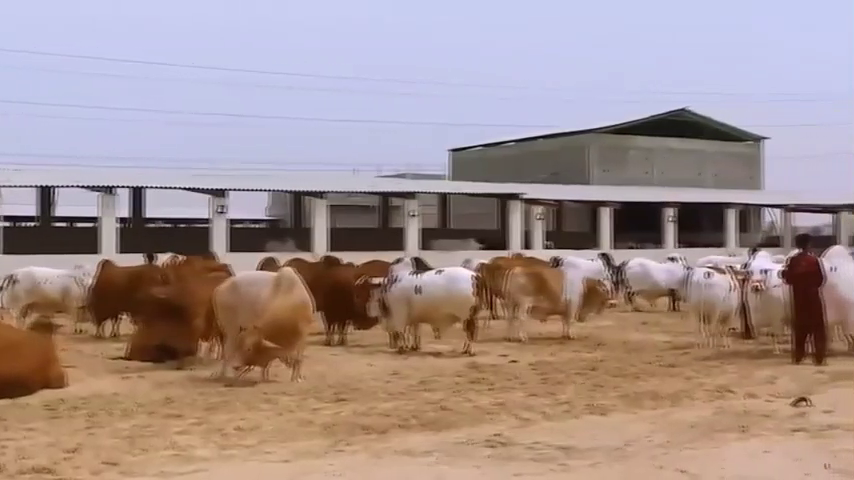bo: (206, 270, 323, 391), (360, 266, 495, 368), (490, 256, 620, 354), (124, 265, 218, 381), (302, 241, 401, 347), (672, 248, 744, 361), (77, 243, 166, 329), (4, 256, 92, 330), (739, 240, 788, 370), (2, 324, 70, 404), (613, 239, 685, 313), (813, 229, 854, 357)
